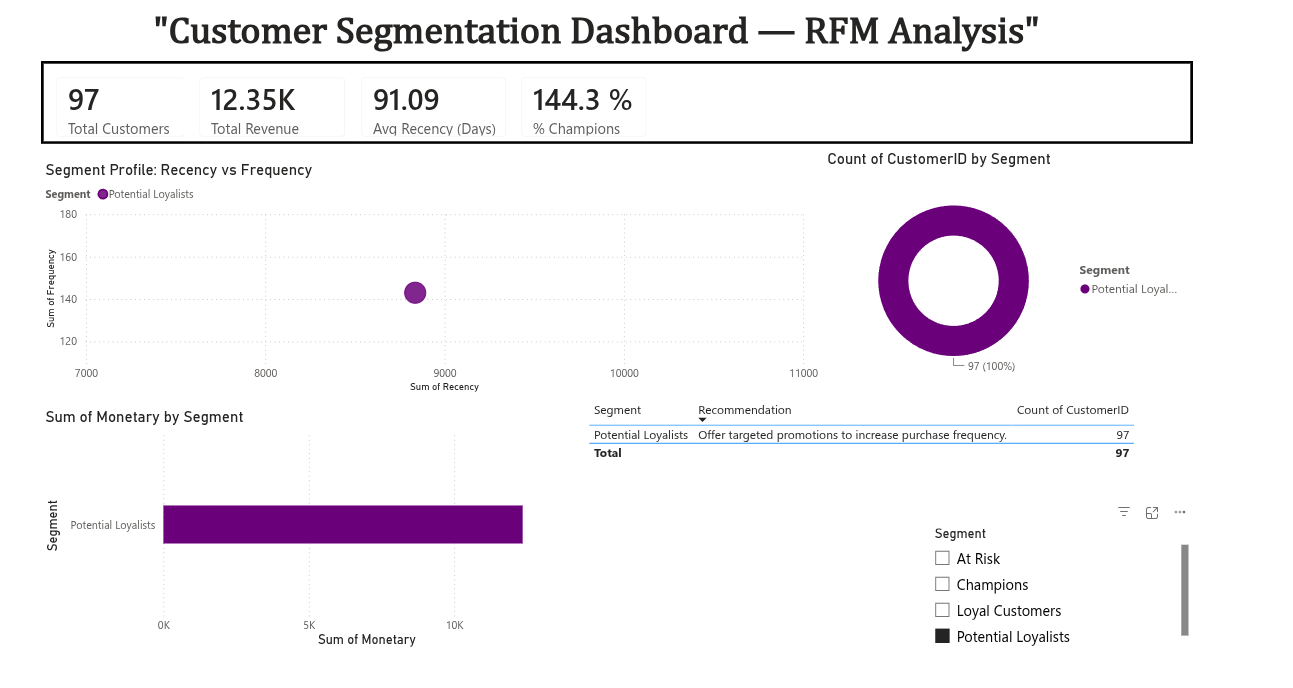

The page's visual inventory and layout, read from the dashboard file:
{"tool":"powerbi","page":{"name":"Page 1","canvas":[1280,720],"ordinal":0},"visuals":[{"type":"cardVisual","fields":{"Data":["customer_segments_for_powerbi 1.Total Customers"]},"box":[0,65.6,177.8,100],"z":0},{"type":"cardVisual","fields":{"Data":["customer_segments_for_powerbi 1.Total Revenue"]},"box":[158.9,65.6,196.7,100],"z":1000},{"type":"cardVisual","fields":{"Data":["customer_segments_for_powerbi 1.Avg Recency (Days)"]},"box":[338.9,65.6,195.6,100],"z":2000},{"type":"cardVisual","fields":{"Data":["customer_segments_for_powerbi 1.% Champions"]},"box":[516.7,65.6,173.3,100],"z":3000},{"type":"donutChart","fields":{"Category":["customer_segments_for_powerbi 1.Segment"],"Y":["CountNonNull(customer_segments_for_powerbi 1.CustomerID)"]},"box":[868.9,165.6,411.1,271.1],"z":4000},{"type":"clusteredBarChart","fields":{"Category":["customer_segments_for_powerbi 1.Segment"],"Y":["Sum(customer_segments_for_powerbi 1.Monetary)"]},"box":[0,452.2,603.3,267.8],"z":5000},{"type":"scatterChart","title":"   Segment Profile: Recency vs Frequency","fields":{"Series":["customer_segments_for_powerbi 1.Segment"],"Size":["Sum(customer_segments_for_powerbi 1.Monetary)"],"X":["Sum(customer_segments_for_powerbi 1.Recency)"],"Y":["Sum(customer_segments_for_powerbi 1.Frequency)"]},"box":[0,177.8,868.9,258.9],"z":6000},{"type":"tableEx","fields":{"Values":["customer_segments_for_powerbi 1.Segment","customer_segments_for_powerbi 1.Recommendation","CountNonNull(customer_segments_for_powerbi 1.CustomerID)"]},"box":[603.3,436.7,668.9,142.2],"z":6001},{"type":"textbox","box":[120,3.3,1040,62.2],"z":6002},{"type":"shape","box":[0,27.8,1280,75.6],"z":6003},{"type":"shape","box":[0,64.4,1280,92.2],"z":6004},{"type":"slicer","fields":{"Values":["customer_segments_for_powerbi 1.Segment"]},"box":[980,578.9,300,141.1],"z":6005}]}

Visuals, with their boxes on the page's 1280x720 design canvas (x1, y1, x2, y2). These are canvas units, not pixel positions in the 1293x688 screenshot, which may show the page scaled, cropped or inside an application window:
cardVisual - customer_segments_for_powerbi 1.Total Customers: {"left": 0, "top": 66, "right": 178, "bottom": 166}
cardVisual - customer_segments_for_powerbi 1.Total Revenue: {"left": 159, "top": 66, "right": 356, "bottom": 166}
cardVisual - customer_segments_for_powerbi 1.Avg Recency (Days): {"left": 339, "top": 66, "right": 534, "bottom": 166}
cardVisual - customer_segments_for_powerbi 1.% Champions: {"left": 517, "top": 66, "right": 690, "bottom": 166}
donutChart - customer_segments_for_powerbi 1.Segment x CountNonNull(customer_segments_for_powerbi 1.CustomerID): {"left": 869, "top": 166, "right": 1280, "bottom": 437}
clusteredBarChart - customer_segments_for_powerbi 1.Segment x Sum(customer_segments_for_powerbi 1.Monetary): {"left": 0, "top": 452, "right": 603, "bottom": 720}
"   Segment Profile: Recency vs Frequency" scatterChart: {"left": 0, "top": 178, "right": 869, "bottom": 437}
tableEx - customer_segments_for_powerbi 1.Segment x customer_segments_for_powerbi 1.Recommendation: {"left": 603, "top": 437, "right": 1272, "bottom": 579}
textbox: {"left": 120, "top": 3, "right": 1160, "bottom": 66}
shape: {"left": 0, "top": 28, "right": 1280, "bottom": 103}
shape: {"left": 0, "top": 64, "right": 1280, "bottom": 157}
slicer - customer_segments_for_powerbi 1.Segment: {"left": 980, "top": 579, "right": 1280, "bottom": 720}
